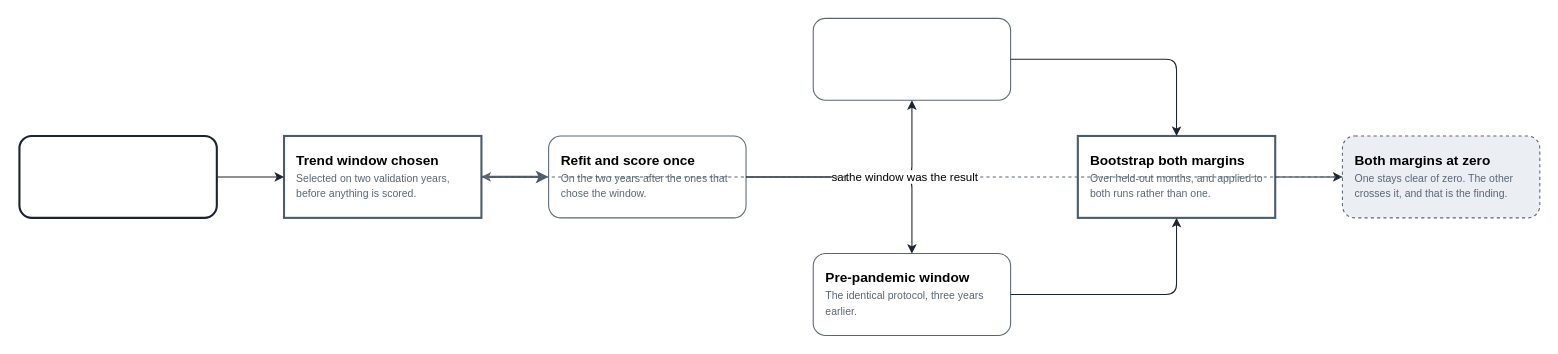
This 1558x354 diagram has some shape labels left out. Here are the shapes that lost their labels. From the top down, the box of each, then its label:
(812, 17, 1011, 100): Published window The window the original 23.4% margin was measured on.
(18, 134, 217, 218): Seven published series City open data, one model fitted per series.
